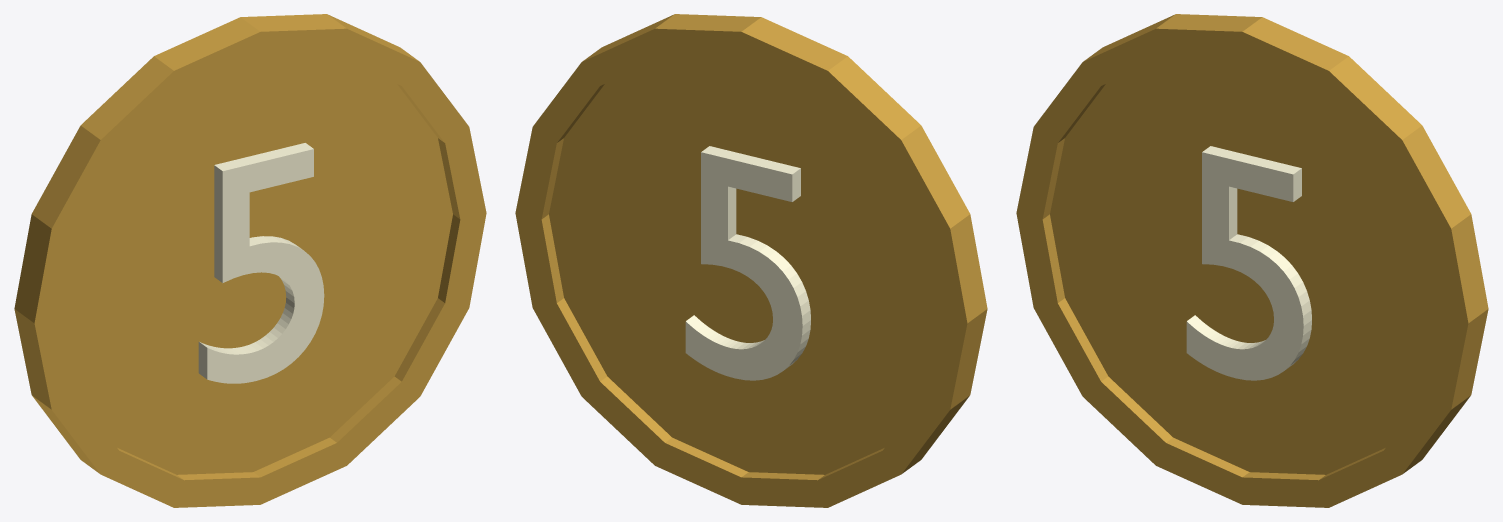
The model's file is Coin5.dae.
The picture shows the model from 3 angles, left to right: view 1: azimuth 30°, elevation 25°; view 2: azimuth 150°, elevation 25°; view 3: azimuth 330°, elevation 25°; orthographic projection.
Parts seen in each view (by area): view 1: Circle_007, Text_007; view 2: Circle_007, Text_017; view 3: Circle_007, Text_007.
Boxes of the visible parts, x1=… form: Circle_007: x1=14, y1=14, x2=486, y2=507; Text_007: x1=198, y1=143, x2=324, y2=383; Circle_007: x1=515, y1=14, x2=987, y2=507; Text_017: x1=685, y1=146, x2=810, y2=380; Circle_007: x1=1016, y1=14, x2=1488, y2=507; Text_007: x1=1186, y1=146, x2=1311, y2=380.
Bounding box in the file's own units: 0.4939 × 0.0429 × 0.4939.
